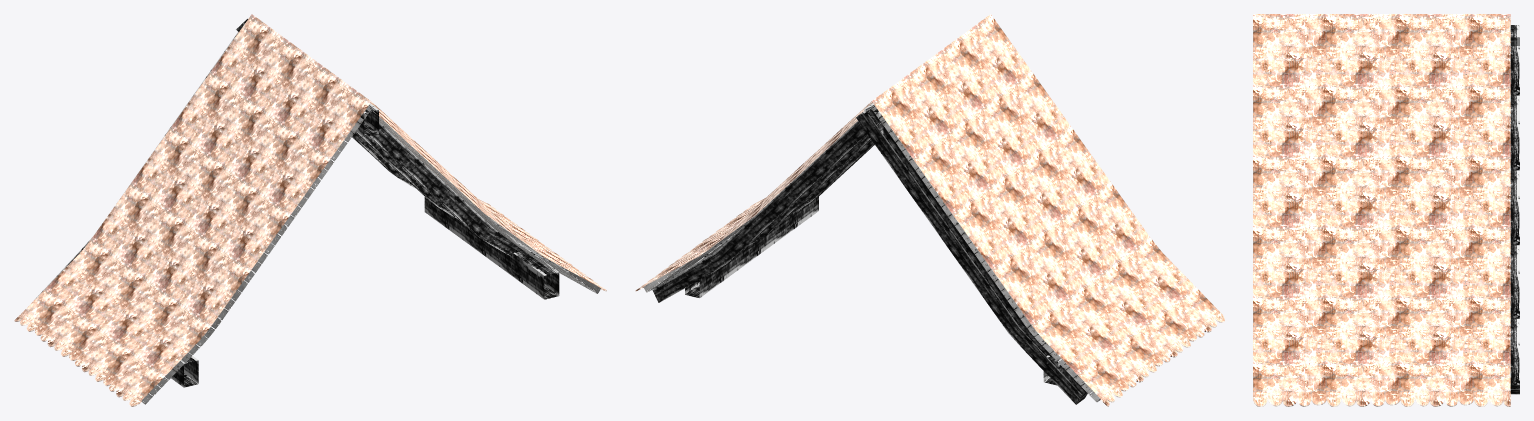
The model's file is SM_roof_B_part_02_02.fbx.
The picture shows the model from 3 angles, left to right: view 1: azimuth 30°, elevation 25°; view 2: azimuth 150°, elevation 25°; view 3: azimuth 270°, elevation 25°; orthographic projection. The views are drawn at different scales.
Parts seen in each view (by area): view 1: SM_roof_B_part_02_02_LOD0; view 2: SM_roof_B_part_02_02_LOD0; view 3: SM_roof_B_part_02_02_LOD0.
Boxes of the visible parts, <box> form: SM_roof_B_part_02_02_LOD0: <box>14,14,606,406</box>; SM_roof_B_part_02_02_LOD0: <box>635,14,1224,406</box>; SM_roof_B_part_02_02_LOD0: <box>1253,14,1519,406</box>.
Size of the model in its own units: 1606 by 725 by 810.
Materials: 4 (4 with a texture image).
